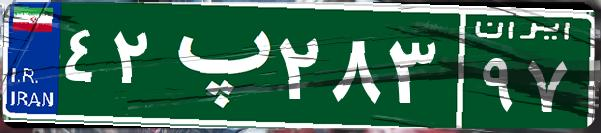2: (273, 28, 330, 110), (110, 28, 158, 105)
3: (385, 28, 445, 110)
4: (57, 26, 110, 107)
7: (525, 38, 570, 115)
8: (330, 28, 385, 110)
9: (475, 38, 525, 113)
پ: (158, 15, 273, 115)
